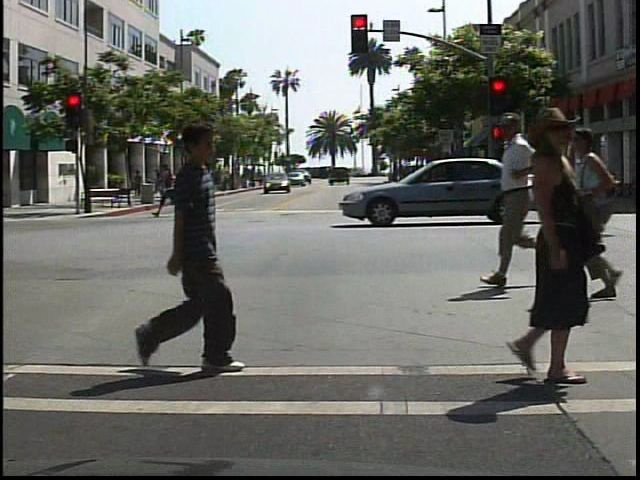person: (491, 105, 601, 386), (134, 115, 250, 375), (491, 111, 567, 296), (567, 115, 634, 304), (156, 158, 190, 219), (132, 165, 146, 201)
